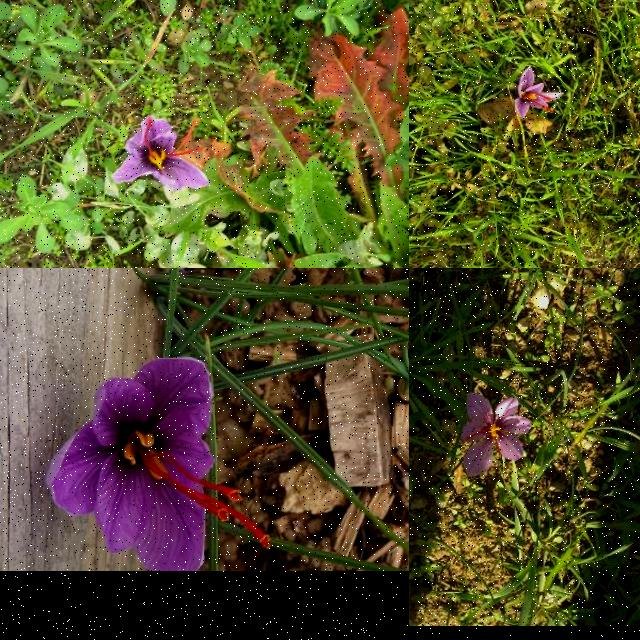flower: (47, 358, 271, 572), (112, 116, 210, 192), (460, 393, 530, 477), (515, 66, 565, 118)
